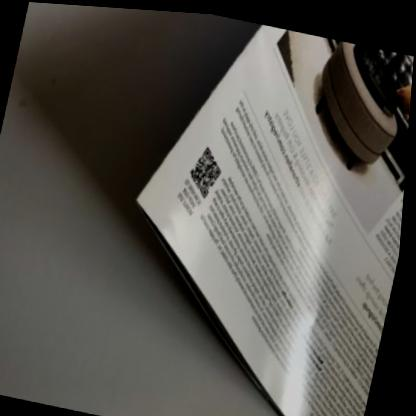Paper: (138, 19, 407, 416)
